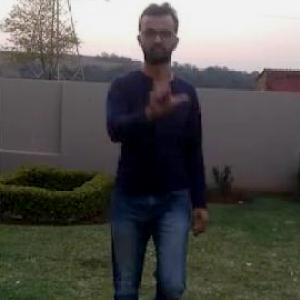land_hand: (143, 56, 188, 117)
